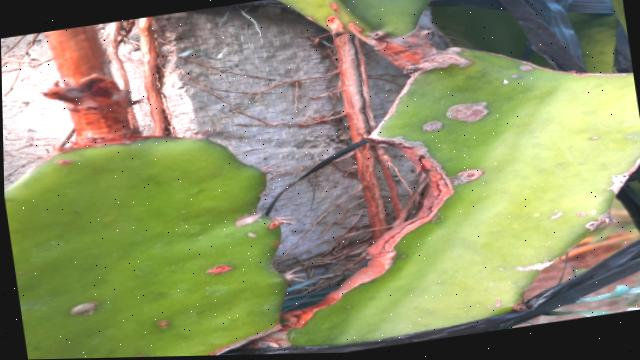stemcanker: (446, 166, 486, 185), (409, 118, 446, 136), (199, 262, 235, 277), (52, 144, 73, 169), (503, 60, 541, 73), (236, 213, 263, 230), (588, 133, 612, 144)
